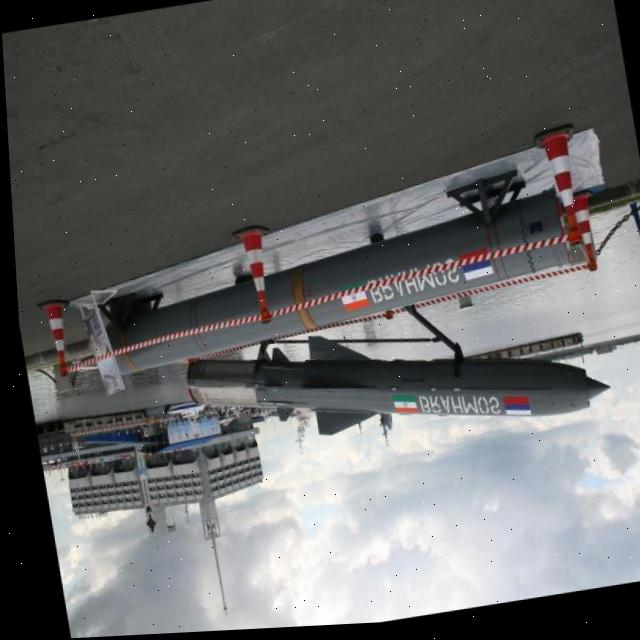missile: (178, 302, 614, 470)
